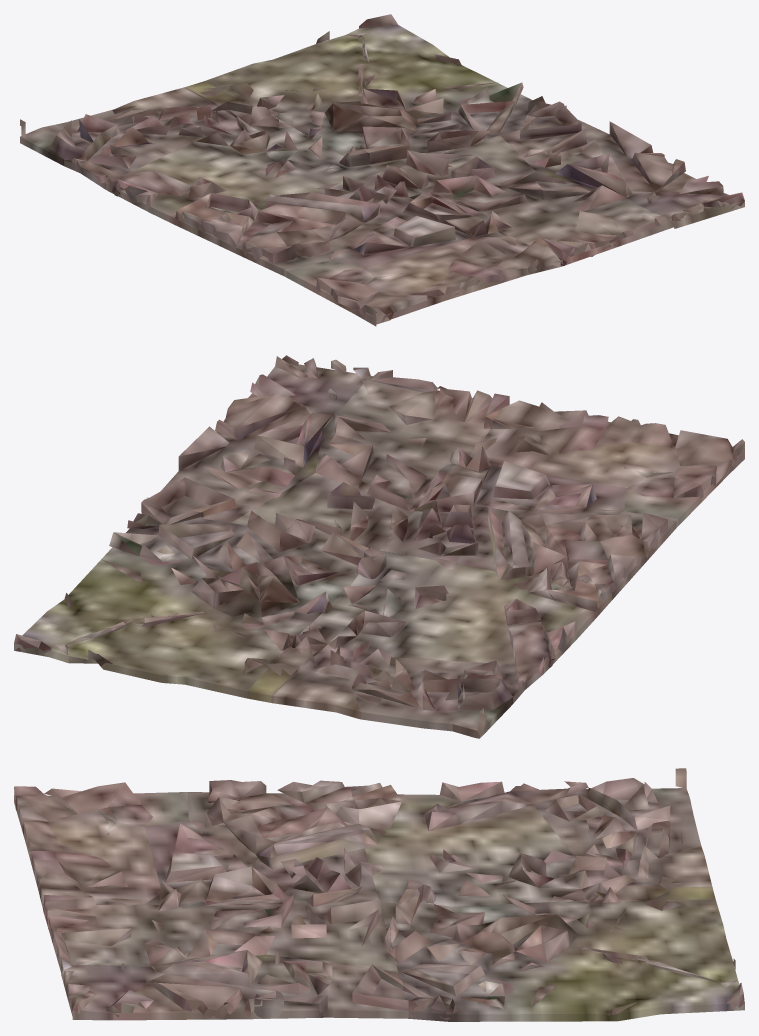
3 renders of one model, top to bottom at view 1: azimuth 30°, elevation 25°; view 2: azimuth 150°, elevation 25°; view 3: azimuth 270°, elevation 25°, orthographic. The views are drawn at different scales.
Parts seen in each view (by area): view 1: Mesh_0; view 2: Mesh_0; view 3: Mesh_0.
Boxes of the visible parts, <box> form: Mesh_0: <box>20,14,744,326</box>; Mesh_0: <box>14,355,744,738</box>; Mesh_0: <box>14,768,744,1021</box>.
Size of the model in its own units: 1080 by 99.6 by 1318.
Materials: 1 (1 with a texture image).
